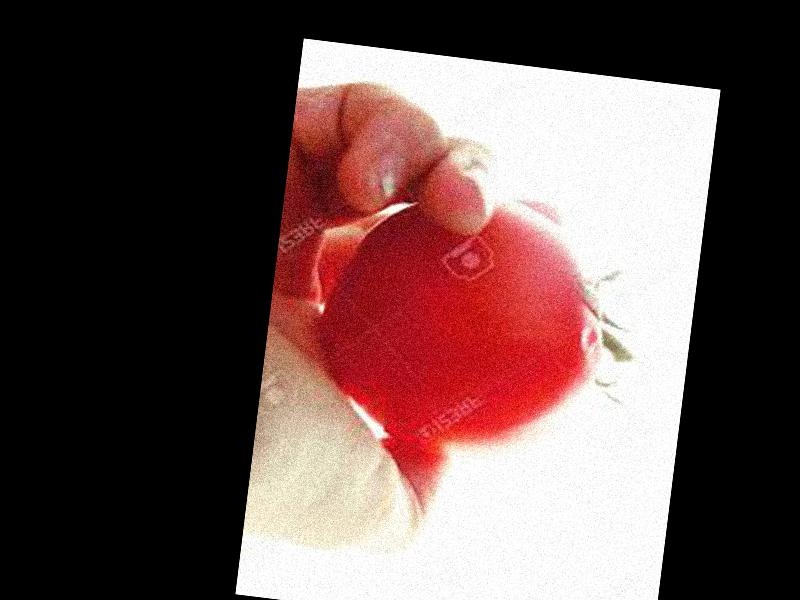Tomato: (312, 178, 621, 469)
